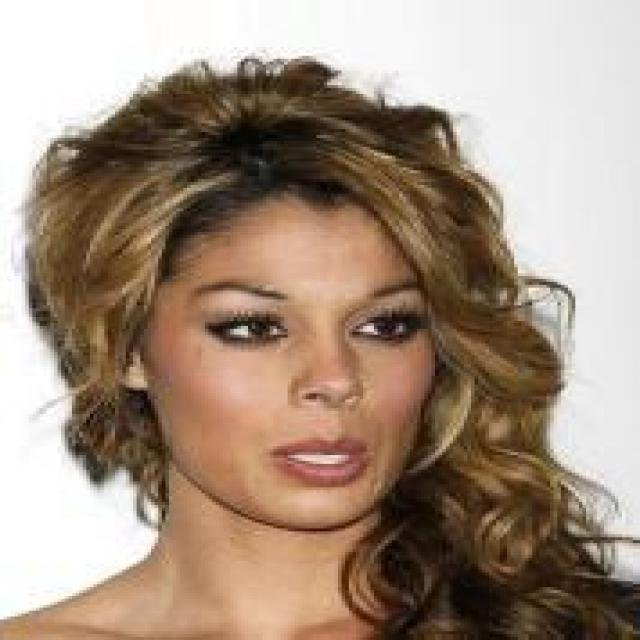bareface: (168, 219, 438, 523)
